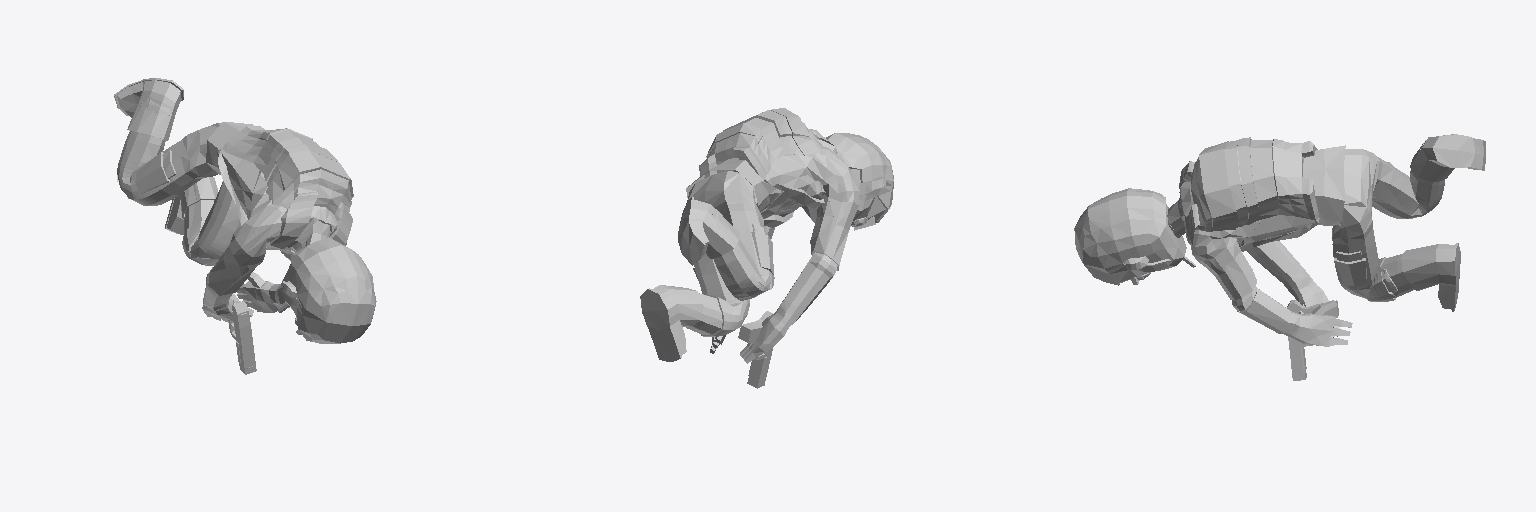
Rendered from frame_0061.obj.
3 views of the same model, side by side, from view 1: azimuth 30°, elevation 25°; view 2: azimuth 150°, elevation 25°; view 3: azimuth 270°, elevation 25° (orthographic).
Parts seen in each view (by area): view 1: Body, Gun; view 2: Body, Gun; view 3: Body, Gun.
Boxes of the visible parts, x1=… form: Body: x1=114, y1=78, x2=376, y2=343; Gun: x1=228, y1=293, x2=256, y2=374; Body: x1=640, y1=108, x2=893, y2=363; Gun: x1=738, y1=311, x2=772, y2=388; Body: x1=1074, y1=134, x2=1485, y2=346; Gun: x1=1287, y1=300, x2=1338, y2=380.
Size of the model in its own units: 1.3 by 2.31 by 3.49.